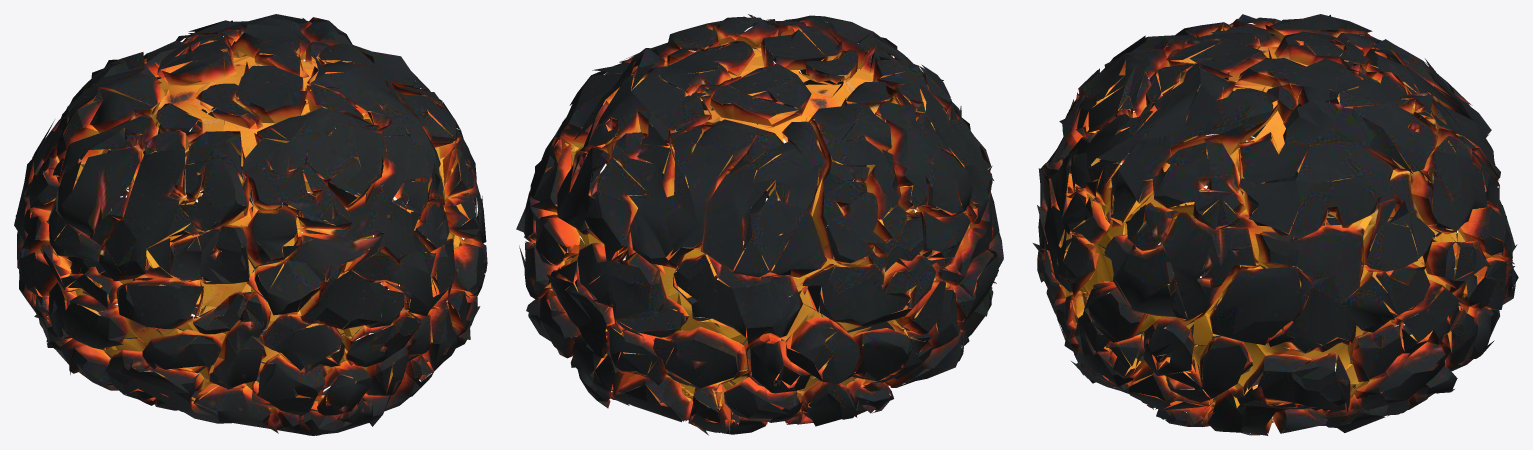
The model's file is meteor.glb.
The picture shows the model from 3 angles, left to right: view 1: azimuth 30°, elevation 25°; view 2: azimuth 150°, elevation 25°; view 3: azimuth 270°, elevation 25°; orthographic projection.
Visible parts, largest first — view 1: Mesh_0; view 2: Mesh_0; view 3: Mesh_0.
Boxes of the visible parts, bbox=[...] form: Mesh_0: bbox=[14, 14, 487, 435]; Mesh_0: bbox=[516, 14, 1003, 435]; Mesh_0: bbox=[1033, 14, 1518, 435].
Bounding box in the file's own units: 1.26 × 1 × 1.3.
1 material, 1 textured.
